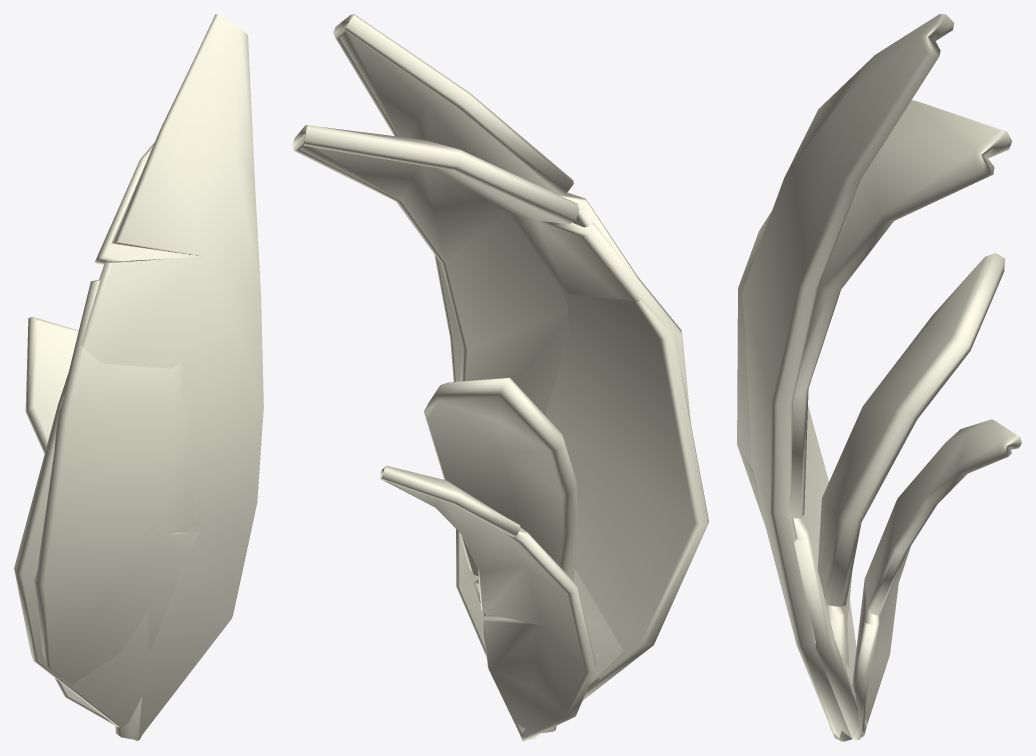
File: Hen_feathers.fbx
3 renders of one model, left to right at view 1: azimuth 30°, elevation 25°; view 2: azimuth 150°, elevation 25°; view 3: azimuth 270°, elevation 25°, orthographic. The views are drawn at different scales.
Visible parts, largest first — view 1: pPlane2, pPlane1, pPlane4; view 2: pPlane2, pPlane1, pPlane3, pPlane4; view 3: pPlane2, pPlane1, pPlane4, pPlane3.
Boxes of the visible parts, x1,y1,x2,y2 form: pPlane2: (14, 14, 263, 741); pPlane1: (34, 142, 199, 684); pPlane4: (25, 317, 141, 740); pPlane2: (333, 14, 708, 739); pPlane1: (292, 125, 690, 740); pPlane3: (379, 465, 595, 741); pPlane4: (424, 377, 578, 732); pPlane2: (742, 14, 954, 741); pPlane1: (737, 100, 1012, 738); pPlane4: (817, 253, 1005, 741); pPlane3: (852, 419, 1021, 739).
Size of the model in its own units: 41.72 by 87.7 by 28.29.
